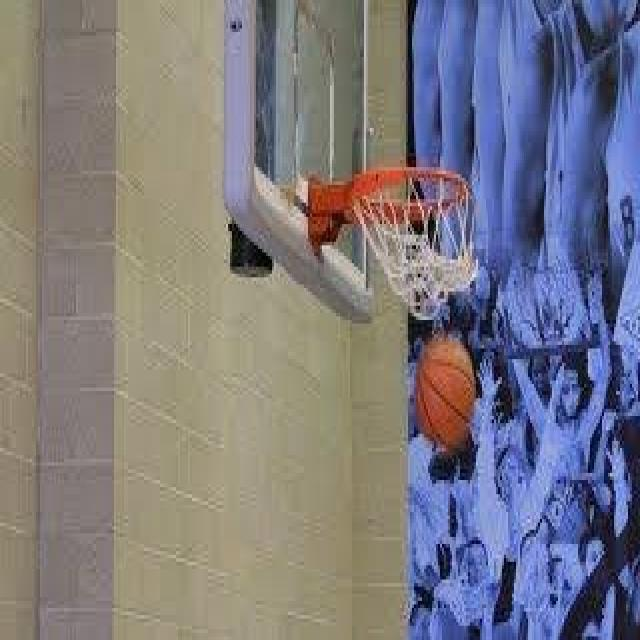Basketball: (414, 334, 474, 454)
hoop: (348, 167, 478, 320)
